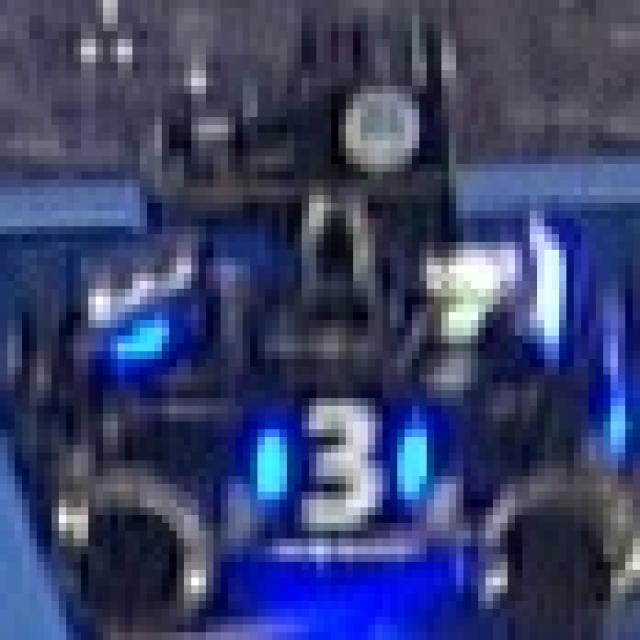B3: (250, 390, 434, 523)
